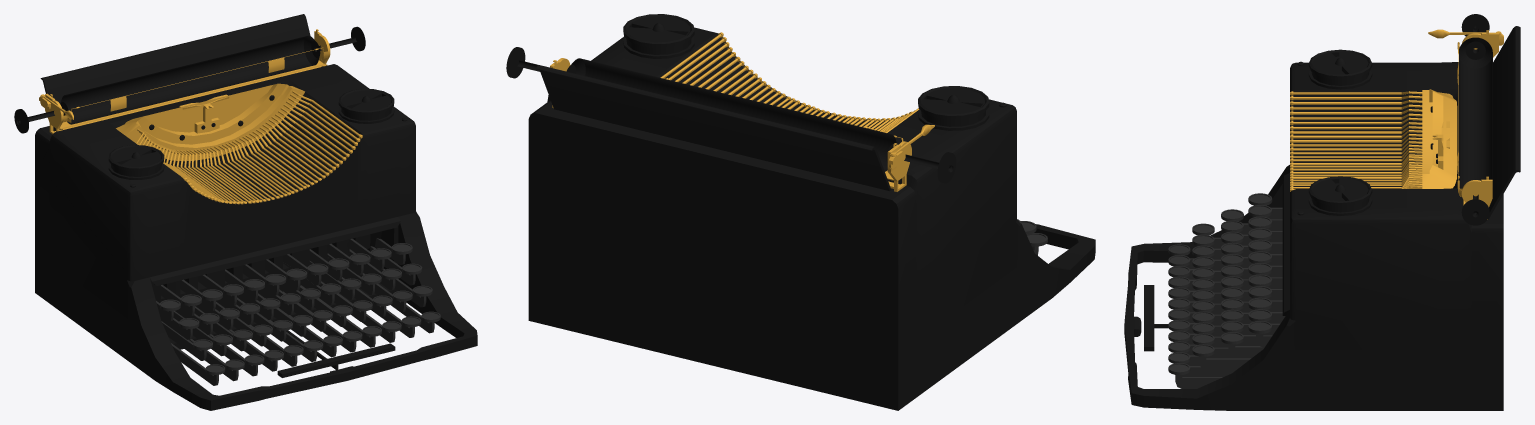
Rendered from TypeWriter.glb.
3 views of the same model, side by side, from view 1: azimuth 30°, elevation 25°; view 2: azimuth 150°, elevation 25°; view 3: azimuth 270°, elevation 25° (orthographic). The views are drawn at different scales.
Visible parts, largest first — view 1: Cube_Material_0, Cube_Material_0.107, Cube_Material_0.097, Cube_Material_0.001, Cylinder.012_Material_0.003, Cylinder.012_Material_0.001, Cube_Material_0.110, Cube_Material_0.008, Cylinder_Material.001_0.001, Cube_Material_0.016, Cube_Material_0.116, Cube_Material_0.022 (+26 smaller); view 2: Cube_Material_0.004, Cube_Material_0.107, Cube_Material_0.095, Cylinder.012_Material_0.003, Cube_Material_0.103, Cube_Material_0.001, Cube_Material_0.116, Cube_Material_0.100, Cube_Material_0.016, Cylinder.012_Material_0.002, Cylinder.008_Material_0.014, Cylinder.009_Material_0.014 (+2 smaller); view 3: Cube_Material_0.005, Cube_Material_0.002, Cylinder.012_Material_0.003, Cube_Material_0.097, Cube_Material_0.016, Cube_Material_0.116, Cylinder_Material.001_0, Cube_Material_0.008, Cylinder.008_Material_0.014, Cylinder.009_Material_0.014, Cube_Material_0.100, Cylinder_Material.001_0.002 (+17 smaller).
Boxes of the visible parts, x1,y1,x2,y2 form: Cube_Material_0: (130, 123, 415, 281); Cube_Material_0.107: (35, 131, 210, 410); Cube_Material_0.097: (43, 15, 310, 130); Cube_Material_0.001: (223, 79, 362, 197); Cylinder.012_Material_0.003: (64, 51, 313, 124); Cylinder.012_Material_0.001: (61, 36, 306, 109); Cube_Material_0.110: (131, 277, 190, 381); Cube_Material_0.008: (399, 213, 457, 316); Cylinder_Material.001_0.001: (126, 88, 304, 161); Cube_Material_0.016: (298, 74, 409, 132); Cube_Material_0.116: (68, 130, 180, 188); Cube_Material_0.022: (152, 221, 400, 285); Cube_Material_0.004: (528, 113, 898, 410); Cube_Material_0.107: (896, 107, 1095, 410); Cube_Material_0.095: (539, 70, 889, 190); Cylinder.012_Material_0.003: (585, 64, 896, 171); Cube_Material_0.103: (535, 101, 909, 199); Cube_Material_0.001: (657, 33, 825, 116); Cube_Material_0.116: (887, 100, 1009, 160); Cube_Material_0.100: (536, 65, 873, 150); Cube_Material_0.016: (593, 28, 715, 76); Cylinder.012_Material_0.002: (582, 59, 895, 139); Cylinder.008_Material_0.014: (627, 16, 690, 42); Cylinder.009_Material_0.014: (922, 88, 984, 113); Cube_Material_0.005: (1131, 219, 1503, 410); Cube_Material_0.002: (1290, 89, 1457, 184); Cylinder.012_Material_0.003: (1459, 57, 1491, 188); Cube_Material_0.097: (1489, 26, 1515, 211); Cube_Material_0.016: (1296, 189, 1439, 216); Cube_Material_0.116: (1296, 62, 1439, 89); Cylinder_Material.001_0: (1422, 89, 1457, 188); Cube_Material_0.008: (1197, 310, 1289, 398); Cylinder.008_Material_0.014: (1312, 178, 1368, 201); Cylinder.009_Material_0.014: (1312, 51, 1368, 74); Cube_Material_0.100: (1515, 26, 1520, 171); Cylinder_Material.001_0.002: (1422, 90, 1432, 173).
Bounding box in the file's own units: 15.26 × 8.76 × 13.5.
